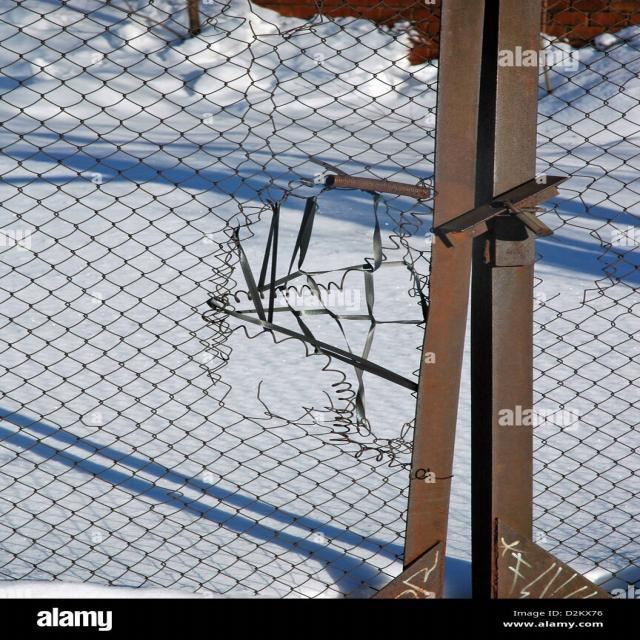fence line: (204, 183, 448, 444)
